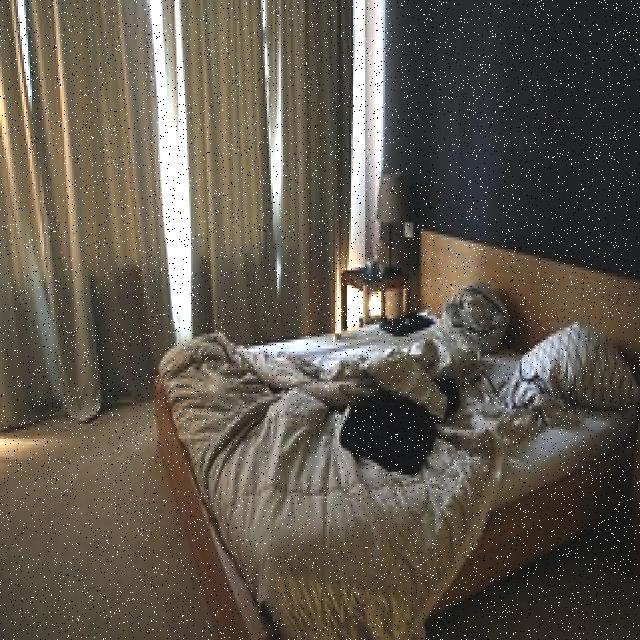bed: (144, 270, 640, 634)
